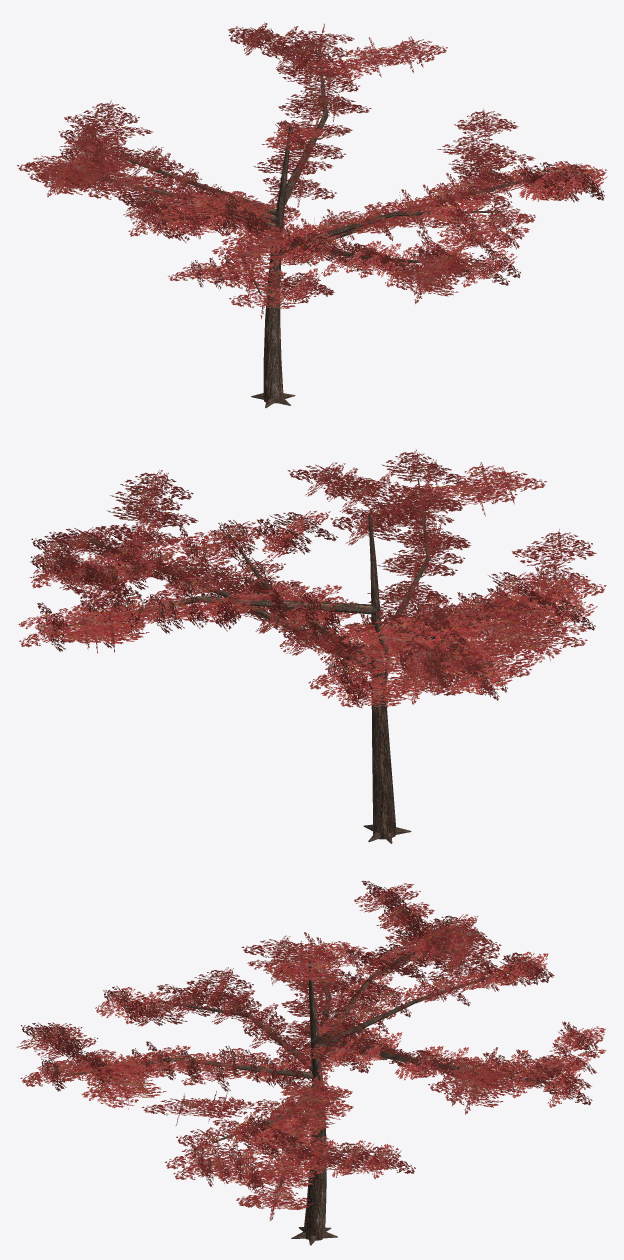
File: tree_3d_06_red_lod1.glb
The picture shows the model from 3 angles, top to bottom: view 1: azimuth 30°, elevation 25°; view 2: azimuth 150°, elevation 25°; view 3: azimuth 270°, elevation 25°; orthographic projection. The views are drawn at different scales.
Visible parts, largest first — view 1: foliage_cards, wood_geometry; view 2: foliage_cards, wood_geometry; view 3: foliage_cards, wood_geometry.
Part boxes in pixels (x1,y1,x2,y2): foliage_cards: (17,22,607,319); wood_geometry: (60,48,557,407); foliage_cards: (18,449,606,716); wood_geometry: (57,478,576,843); foliage_cards: (16,881,606,1220); wood_geometry: (65,952,560,1245).
Size of the model in its own units: 14.66 by 7.46 by 14.
Materials: 2 (2 with a texture image).
